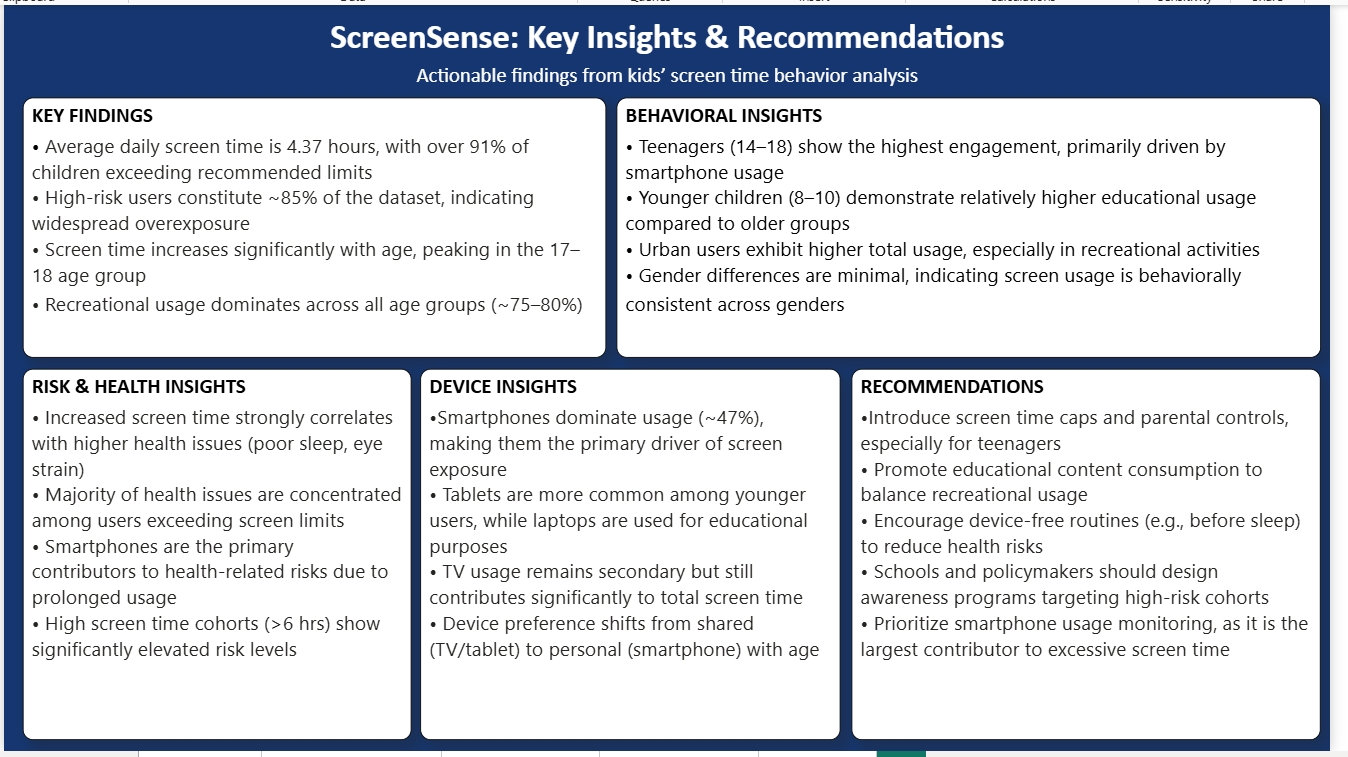

The dashboard page shown, as its layout file describes it:
{"tool":"powerbi","page":{"name":"INSIGHTS","canvas":[1280,720],"ordinal":4},"visuals":[{"type":"textbox","title":"ScreenSense: Key Insights & Recommendations","box":[0,10.2,1280.3,79.1],"z":0},{"type":"textbox","title":"KEY FINDINGS","box":[17.9,89.4,562.9,251.5],"z":1000},{"type":"textbox","title":"BEHAVIORAL INSIGHTS","box":[591,89.4,680.3,251.5],"z":2000},{"type":"textbox","title":"RISK & HEALTH INSIGHTS","box":[17.9,351,375.3,358.7],"z":3000},{"type":"textbox","title":"DEVICE INSIGHTS","box":[402.1,351,405.9,358.7],"z":4000},{"type":"textbox","title":"RECOMMENDATIONS","box":[818.2,351,453.1,358.7],"z":5000}]}

Visuals, with their boxes in screenshot pixels (x1, y1, x2, y2):
"ScreenSense: Key Insights & Recommendations" textbox: box=[0, 14, 1330, 96]
"KEY FINDINGS" textbox: box=[19, 96, 603, 358]
"BEHAVIORAL INSIGHTS" textbox: box=[614, 96, 1320, 358]
"RISK & HEALTH INSIGHTS" textbox: box=[19, 368, 408, 741]
"DEVICE INSIGHTS" textbox: box=[418, 368, 839, 741]
"RECOMMENDATIONS" textbox: box=[850, 368, 1320, 741]
